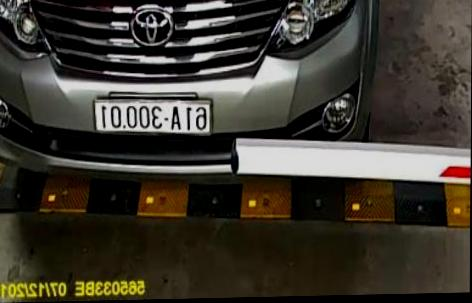License_Plate: (86, 93, 216, 138)
